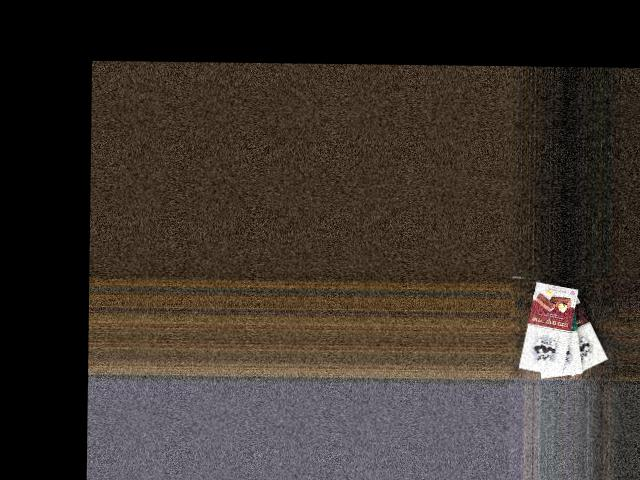chocolate: (548, 282, 609, 379)
